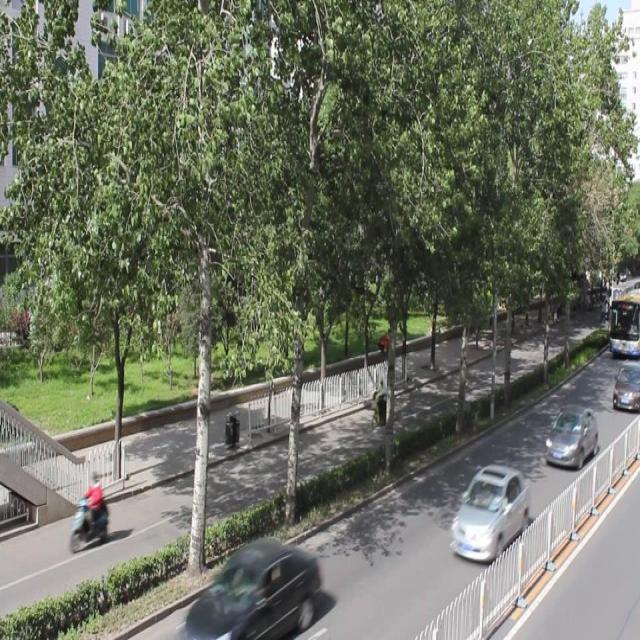car: (184, 535, 317, 640), (448, 461, 528, 561), (543, 401, 598, 468)
